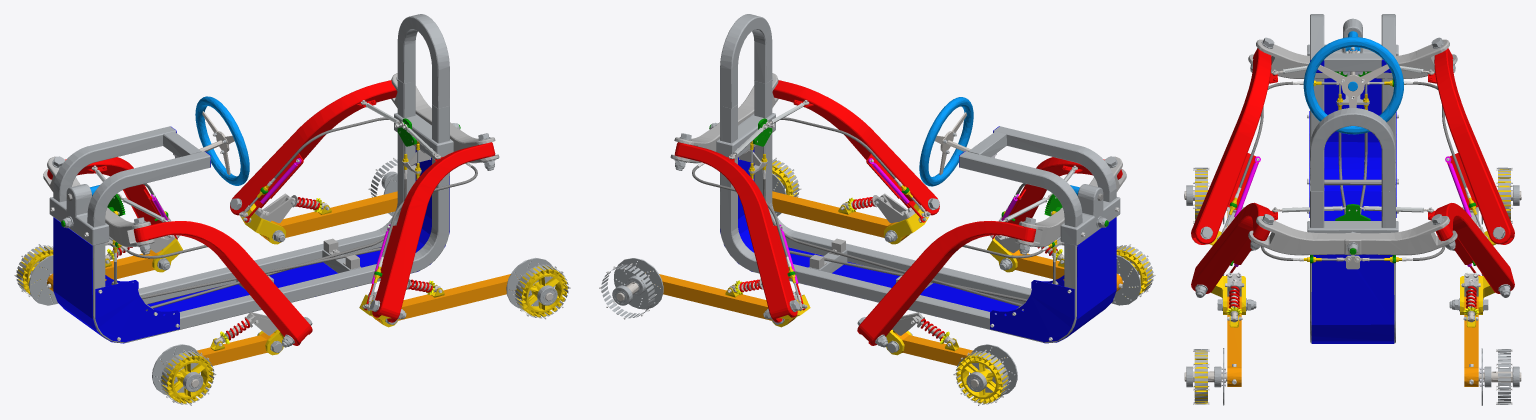
3 views of the same model, side by side, from view 1: azimuth 30°, elevation 25°; view 2: azimuth 150°, elevation 25°; view 3: azimuth 270°, elevation 25° (orthographic). The views are drawn at different scales.
Parts seen in each view (by area): view 1: base_link; view 2: base_link; view 3: base_link.
Boxes of the visible parts, left/top/right/bottom form: base_link: left=14, top=14, right=570, bottom=405; base_link: left=599, top=14, right=1155, bottom=405; base_link: left=1184, top=14, right=1521, bottom=405.
Size of the model in its own units: 1.83 by 1.18 by 1.04.
